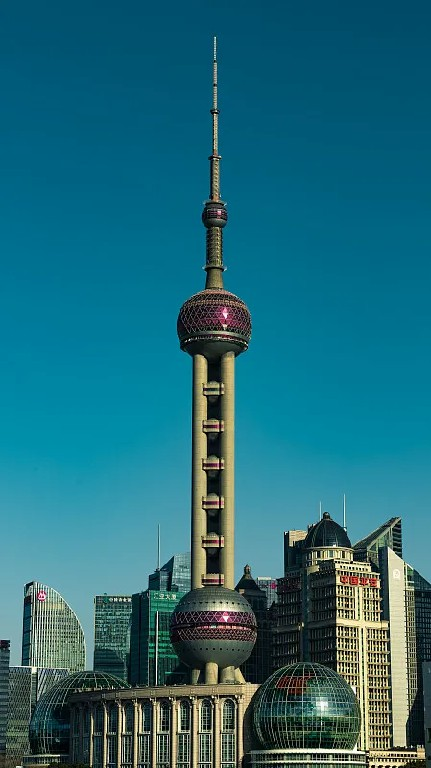Oriental: (168, 37, 257, 681)
